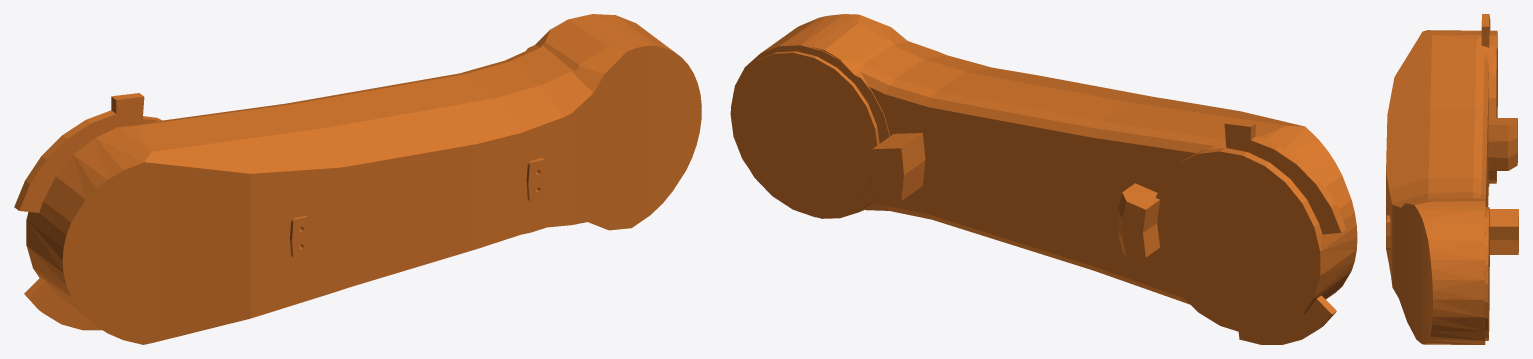
3 views of the same model, side by side, from view 1: azimuth 30°, elevation 25°; view 2: azimuth 150°, elevation 25°; view 3: azimuth 270°, elevation 25° (orthographic). The views are drawn at different scales.
Visible parts, largest first — view 1: link_2; view 2: link_2; view 3: link_2.
Part boxes in pixels (box(x1,y1,x2,y2)): link_2: box(14, 14, 701, 344); link_2: box(730, 14, 1357, 344); link_2: box(1386, 14, 1518, 344).
Size of the model in its own units: 1.17 by 0.2809 by 0.3923.
